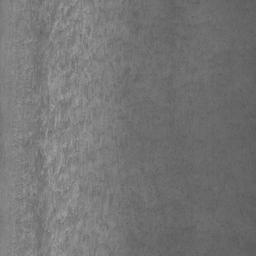Silk spot: (14, 0, 211, 256)
